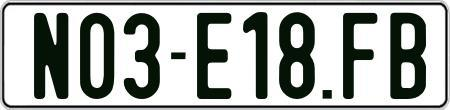0: (78, 11, 116, 100)
1: (242, 11, 266, 104)
3: (122, 10, 161, 97)
8: (276, 9, 312, 100)
B: (387, 13, 426, 99)
E: (197, 12, 232, 101)
F: (343, 12, 379, 103)
N: (34, 13, 68, 102)
